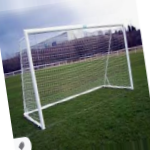goals: (17, 23, 135, 128)
